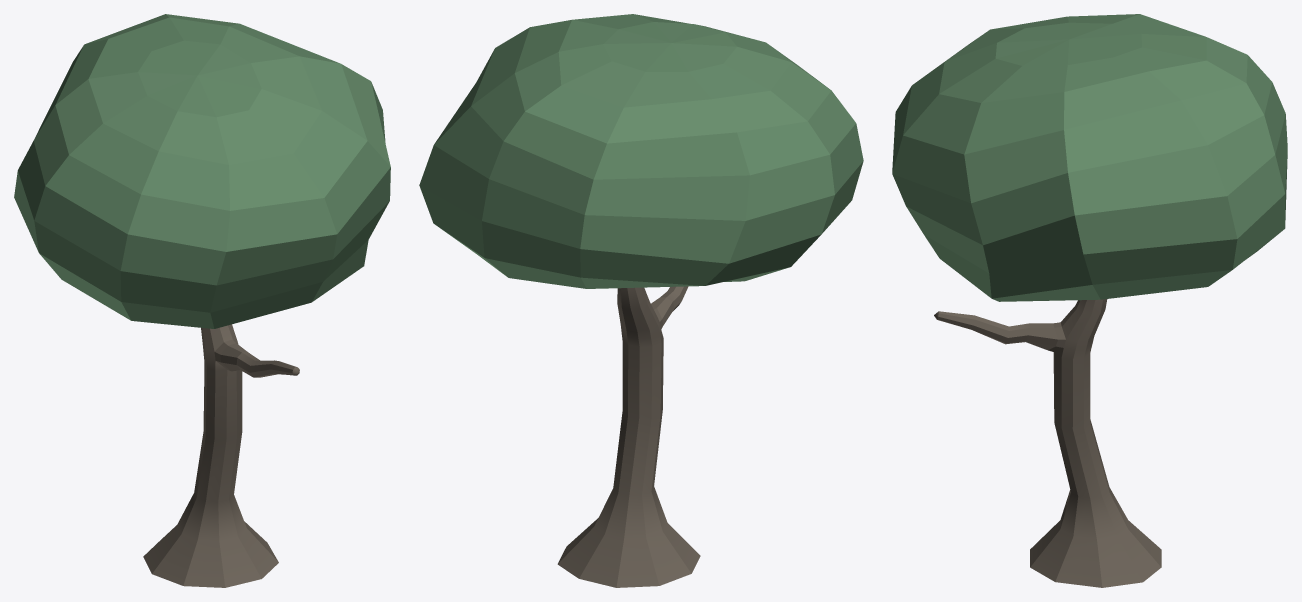
File: SmallTree2.fbx
3 renders of one model, left to right at view 1: azimuth 30°, elevation 25°; view 2: azimuth 150°, elevation 25°; view 3: azimuth 270°, elevation 25°, orthographic. The views are drawn at different scales.
Parts seen in each view (by area): view 1: tree02_rileyevans_01; view 2: tree02_rileyevans_01; view 3: tree02_rileyevans_01.
Part boxes in pixels (box(x1,y1,x2,y2)): tree02_rileyevans_01: box(14, 14, 390, 587); tree02_rileyevans_01: box(419, 14, 863, 587); tree02_rileyevans_01: box(892, 14, 1287, 587).
Size of the model in its own units: 289 by 399 by 280.
